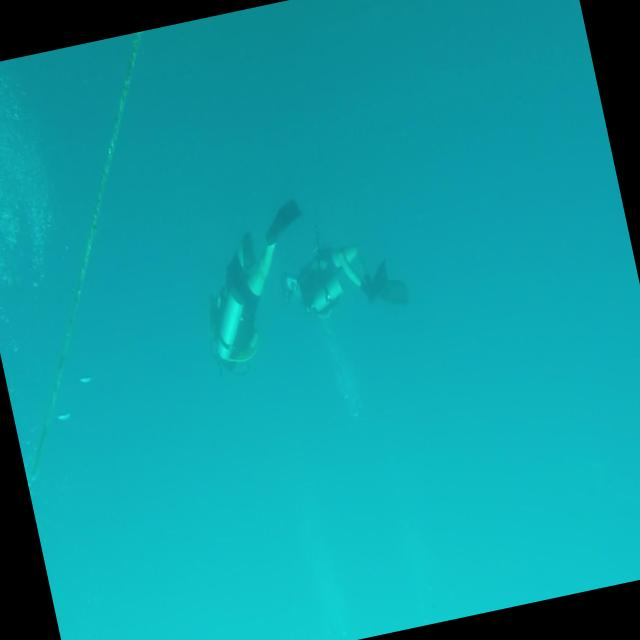human: (182, 196, 332, 382), (275, 230, 411, 330)
